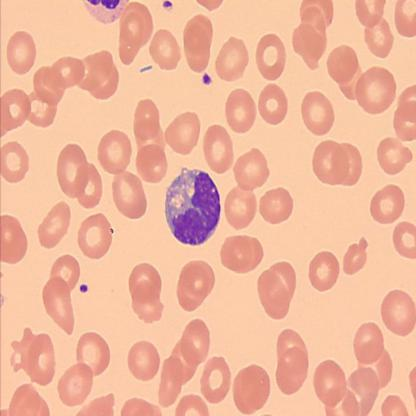Monocyte: (162, 164, 223, 248)
